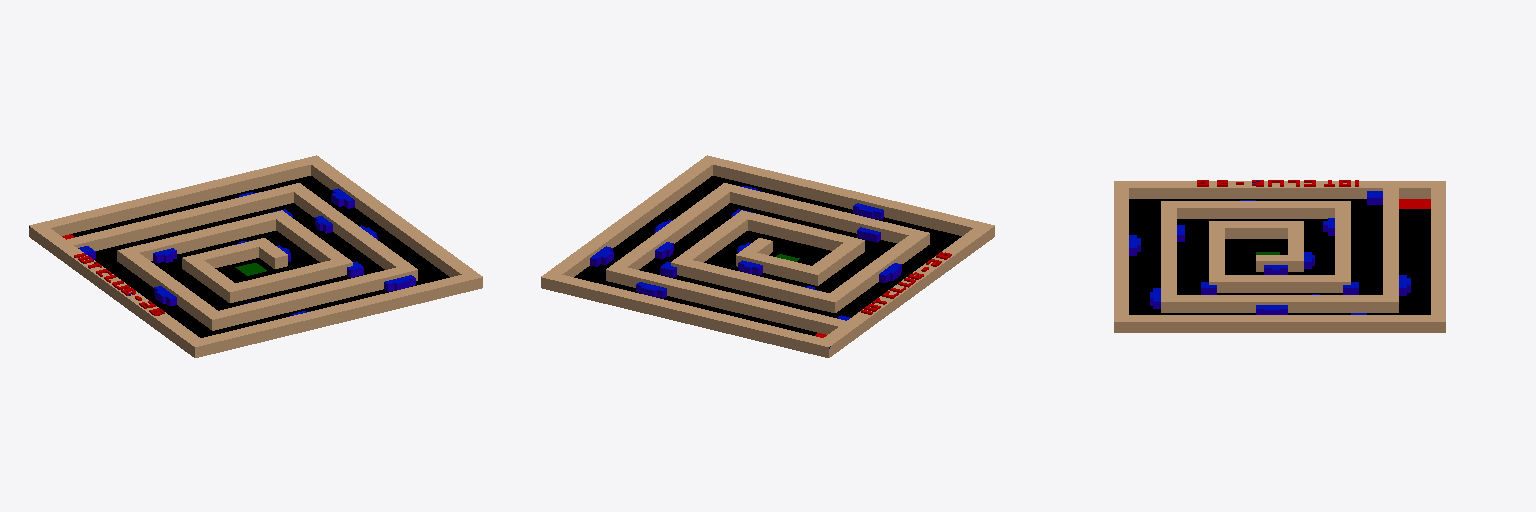
Rendered from new_iot.obj.
3 views of the same model, side by side, from view 1: azimuth 30°, elevation 25°; view 2: azimuth 150°, elevation 25°; view 3: azimuth 270°, elevation 25° (orthographic).
Parts seen in each view (by area): view 1: Plane; view 2: Plane; view 3: Plane.
Part boxes in pixels (x1,y1,x2,y2): Plane: (29,155,482,357); Plane: (541,155,994,357); Plane: (1114,180,1445,332).
Bounding box in the file's own units: 23.54 × 1 × 23.54.